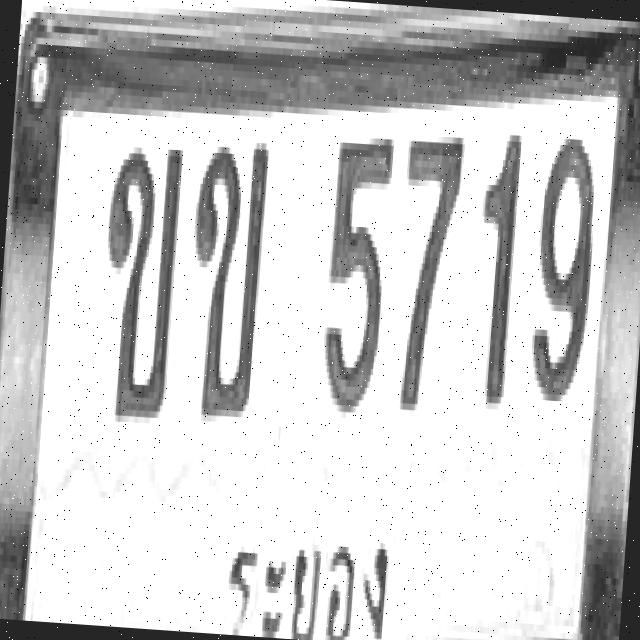1: (468, 130, 522, 406)
11KhorKhai: (94, 138, 182, 418), (181, 139, 269, 418)
5: (319, 132, 392, 410)
7: (390, 128, 463, 412)
9: (528, 133, 600, 400)
Rayong: (219, 509, 397, 640)
